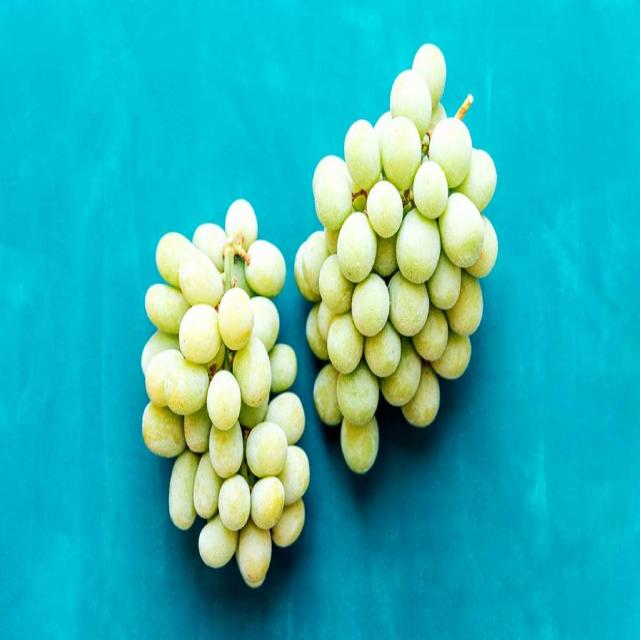grape: (291, 44, 501, 480), (140, 194, 312, 592)
